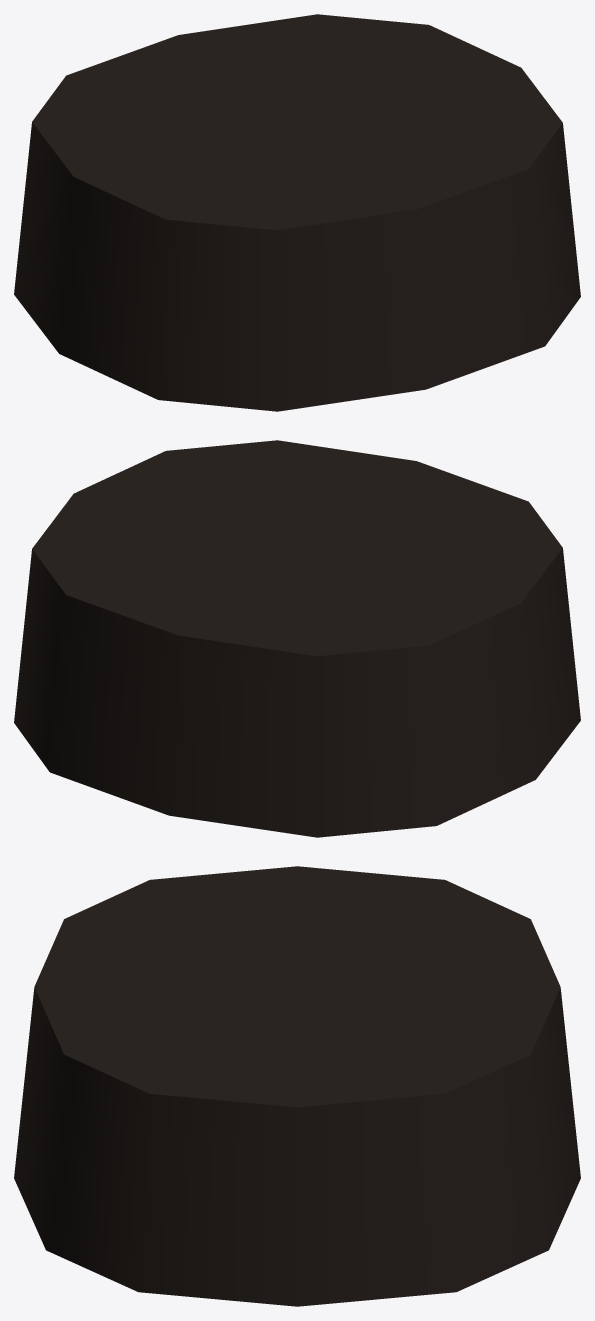
The model's file is SM_Villager_Hat_Peci.fbx.
3 renders of one model, top to bottom at view 1: azimuth 30°, elevation 25°; view 2: azimuth 150°, elevation 25°; view 3: azimuth 270°, elevation 25°, orthographic. The views are drawn at different scales.
Parts seen in each view (by area): view 1: SM_Villager_Hat_Peci; view 2: SM_Villager_Hat_Peci; view 3: SM_Villager_Hat_Peci.
Boxes of the visible parts, x1,y1,x2,y2 form: SM_Villager_Hat_Peci: (14,14,580,411); SM_Villager_Hat_Peci: (14,440,580,837); SM_Villager_Hat_Peci: (14,866,580,1306).
Size of the model in its own units: 0.328 by 0.114 by 0.306.
1 material, 1 textured.
